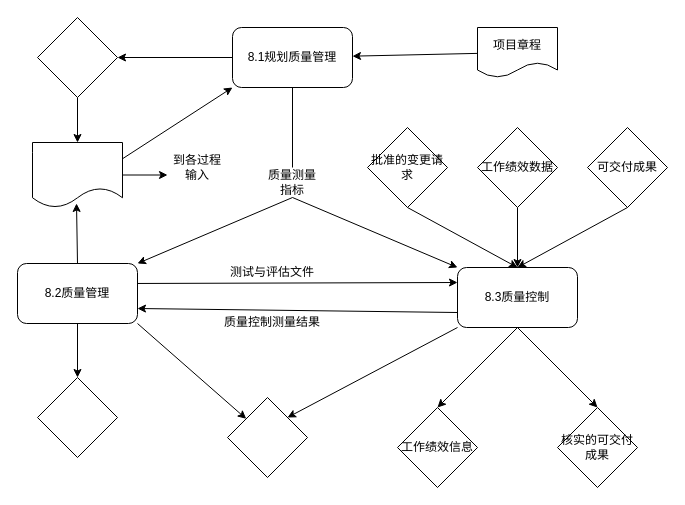
The diagram is 685 pixels wide and 505 high, and some of its shapes have lost their labels. Here are the shapes that lost their labels. From the top down, the centre of each, then its label:
[77,57]: 4.2指定项目管理计划
[77,175]: 项目管理计划
[77,417]: 质量报告
[267,437]: 变更请求
